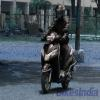motorcycles: (37, 31, 76, 100)
